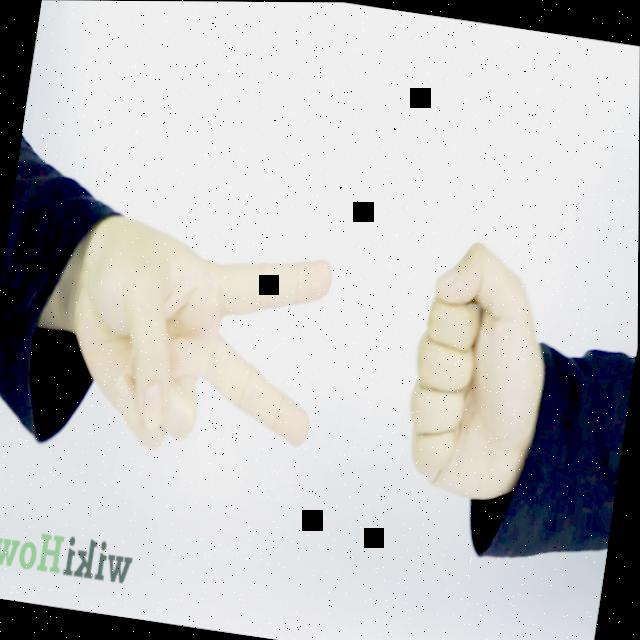Rock: (56, 209, 339, 475), (396, 235, 561, 509)
